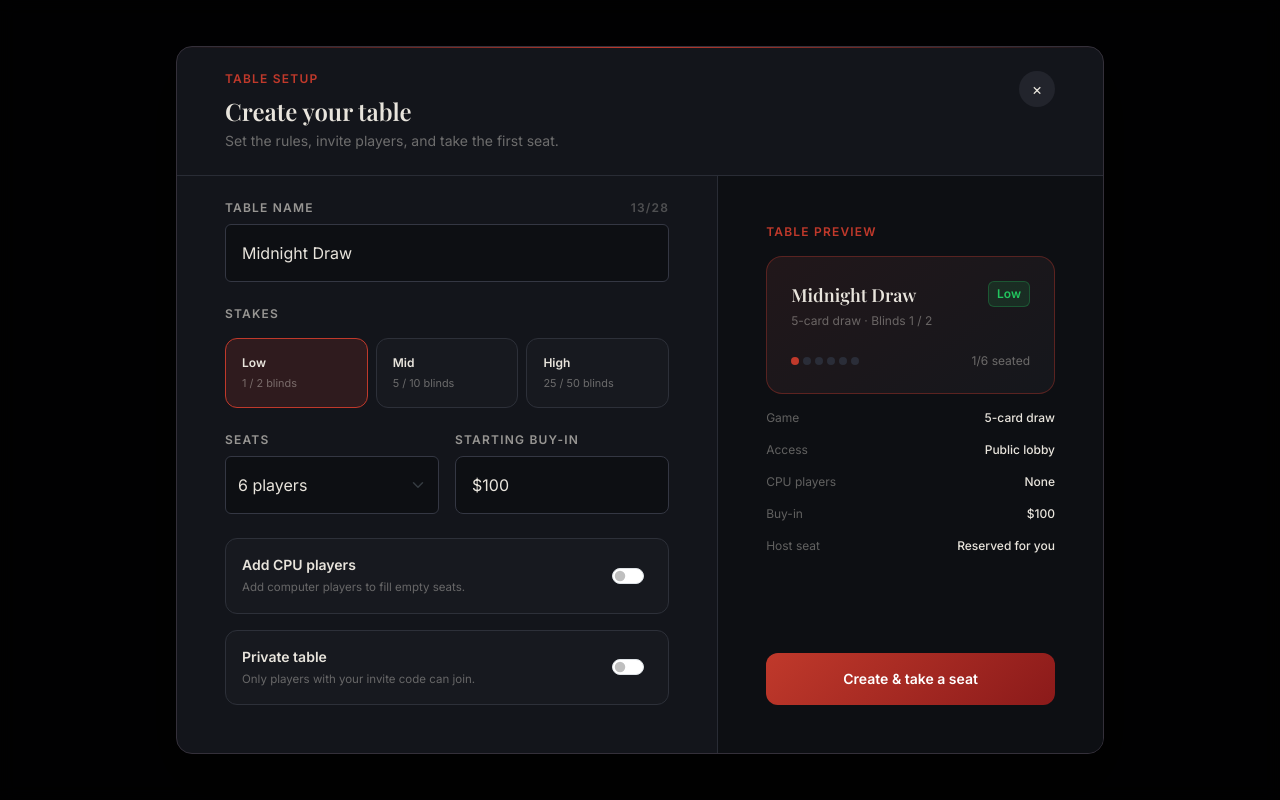
Test: TableCreation (create mode) › CPU counter appears when toggled on and hides again when toggled off
Step 1. Click the switch named "add cpu players" → coordinates (628, 576), box [612,568,644,584]
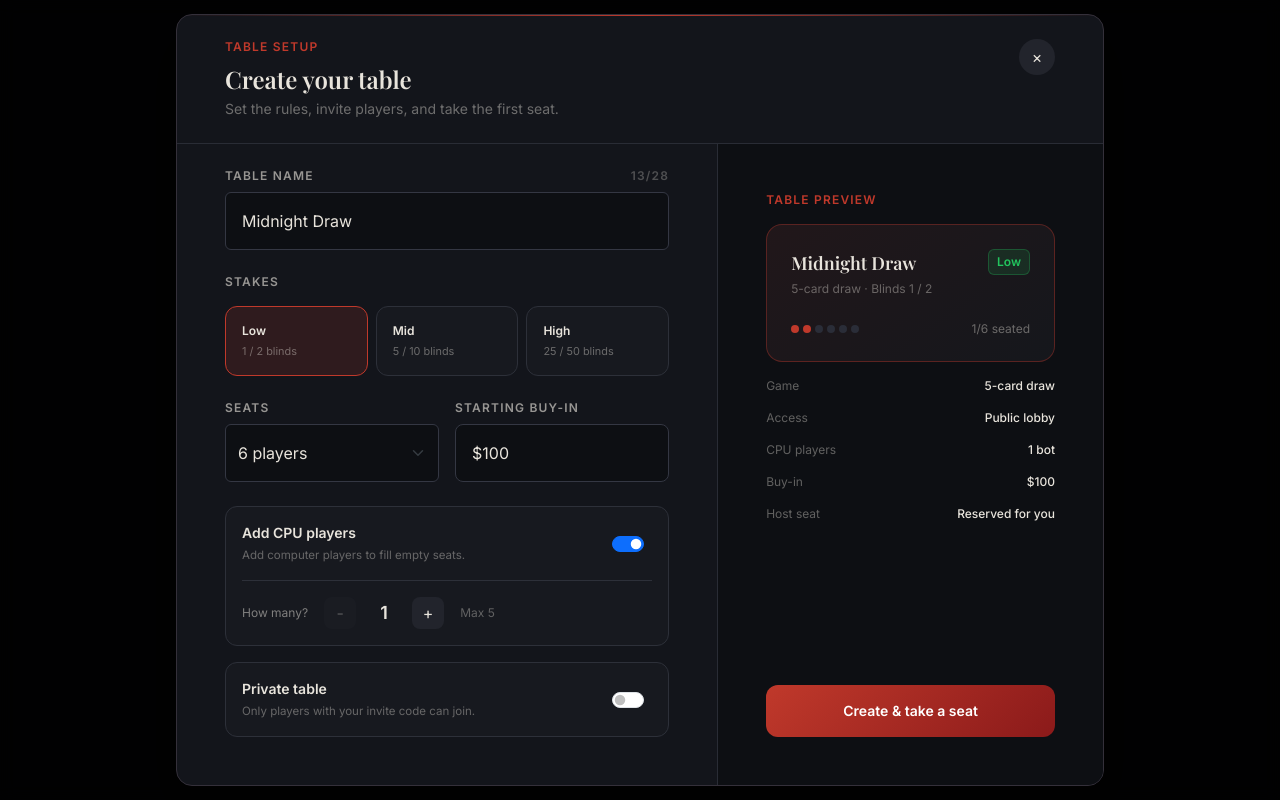
Now the text "How many?" is shown, box [242,605,308,621]
Now the text "Max 5" is shown, box [460,605,495,621]
Step 2. Click the switch named "add cpu players" → coordinates (628, 544), box [612,536,644,552]
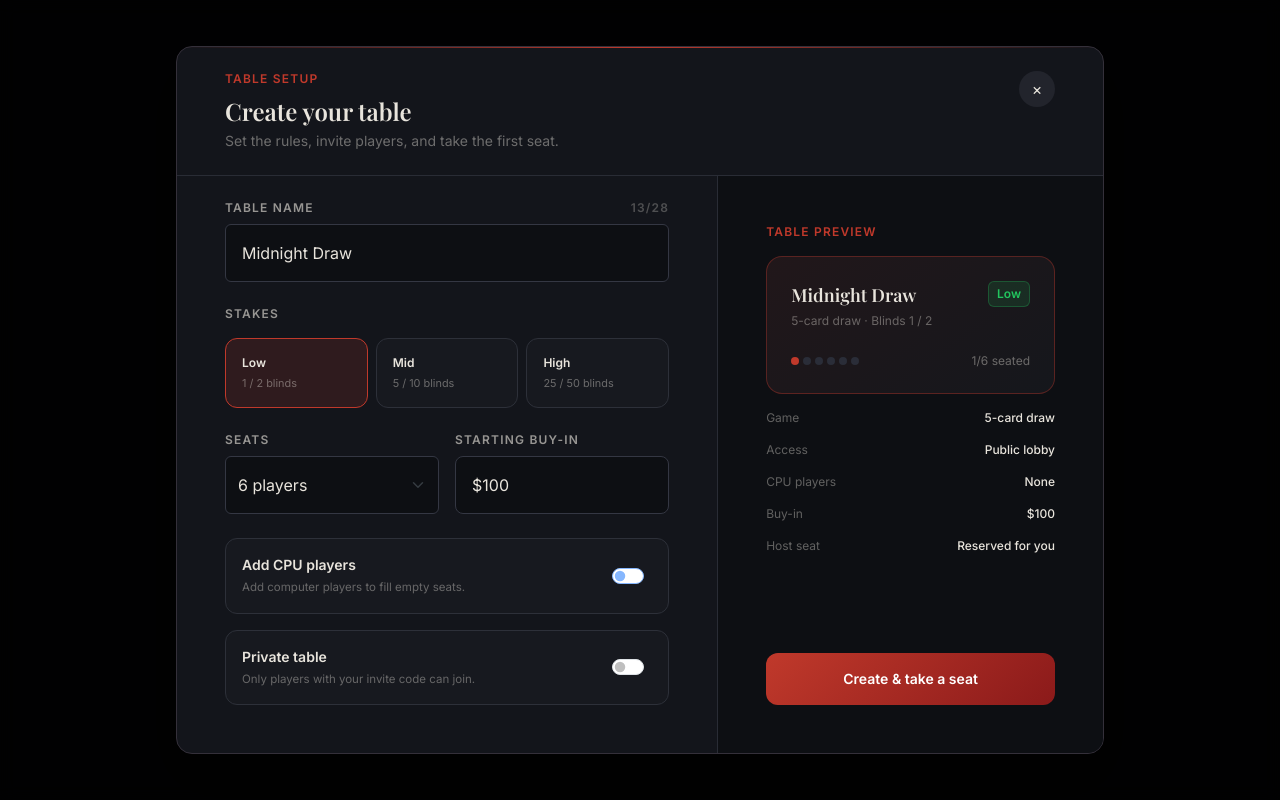
Now the text "How many" is gone
